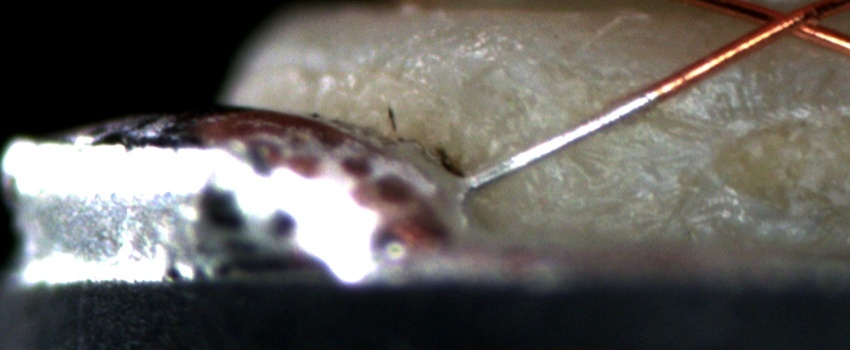CL: (733, 0, 840, 46)
DL: (524, 57, 850, 91)
TS: (463, 91, 657, 189)
